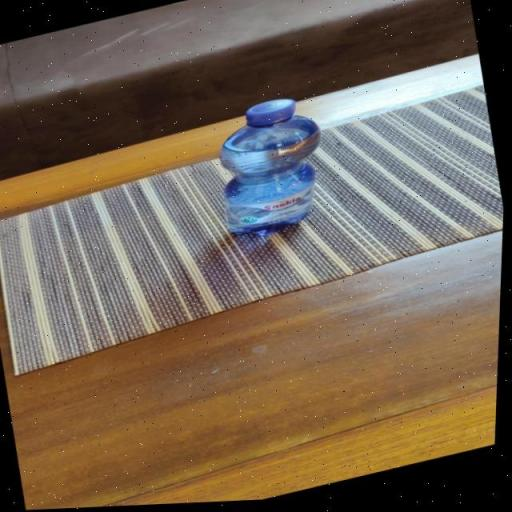plastic: (196, 91, 342, 248)
